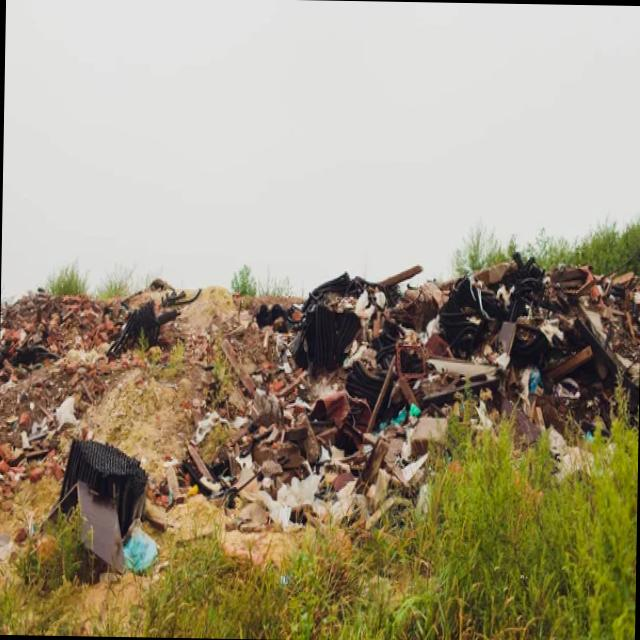garbage: (226, 238, 639, 466)
